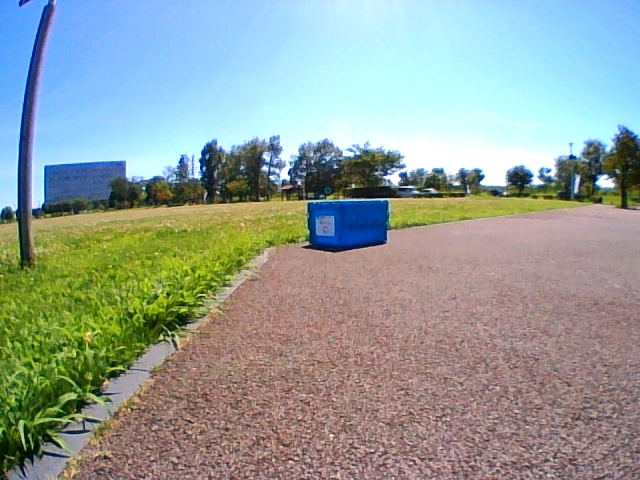blue_box: (307, 200, 388, 244)
tag_c: (315, 215, 334, 234)
